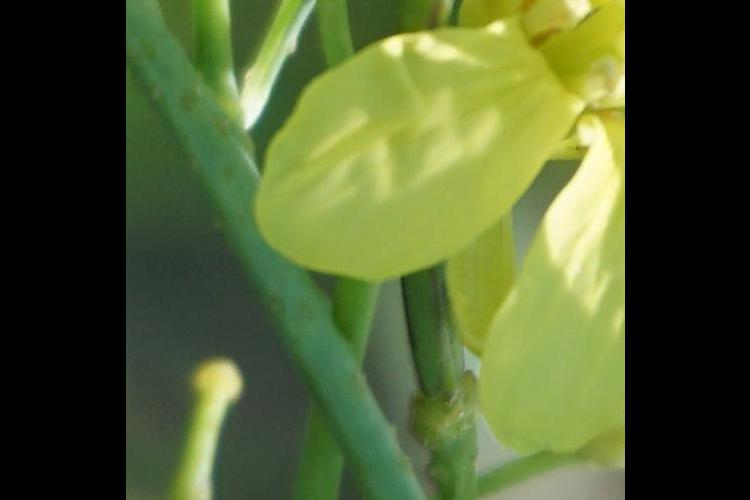pod: (145, 349, 277, 500)
yellow: (267, 1, 626, 461)
